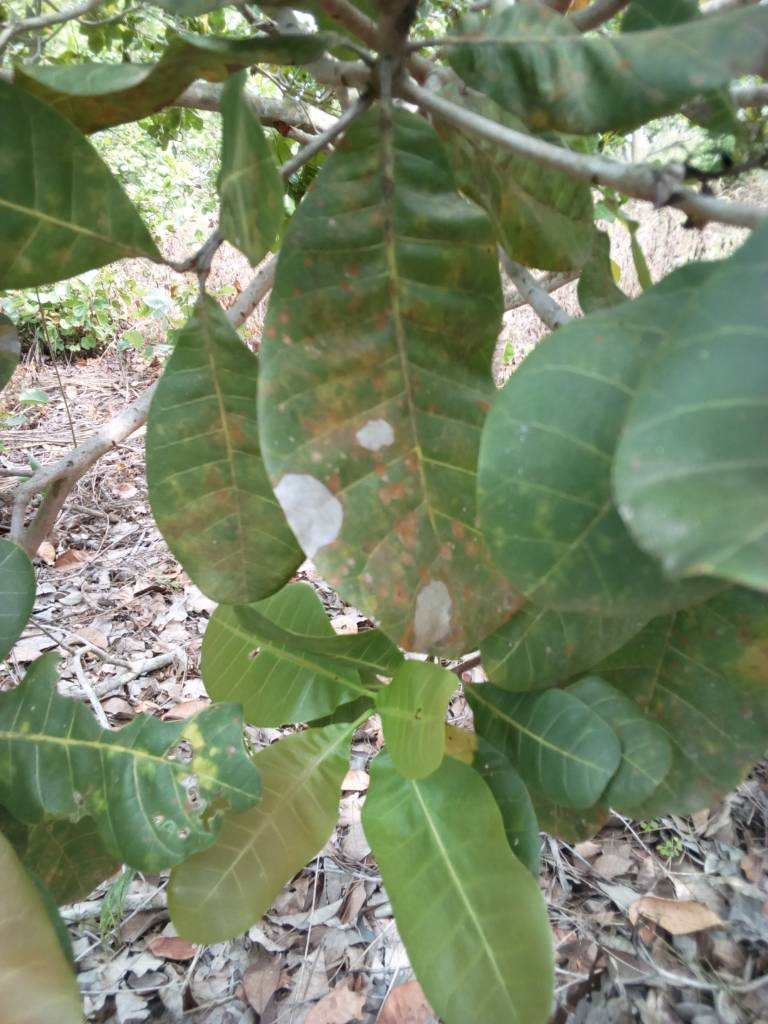Rouille: (265, 96, 536, 621), (138, 288, 307, 617)
